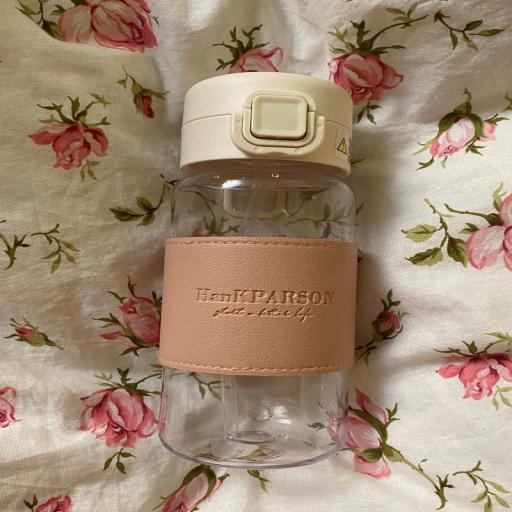bench: (159, 72, 357, 468)
